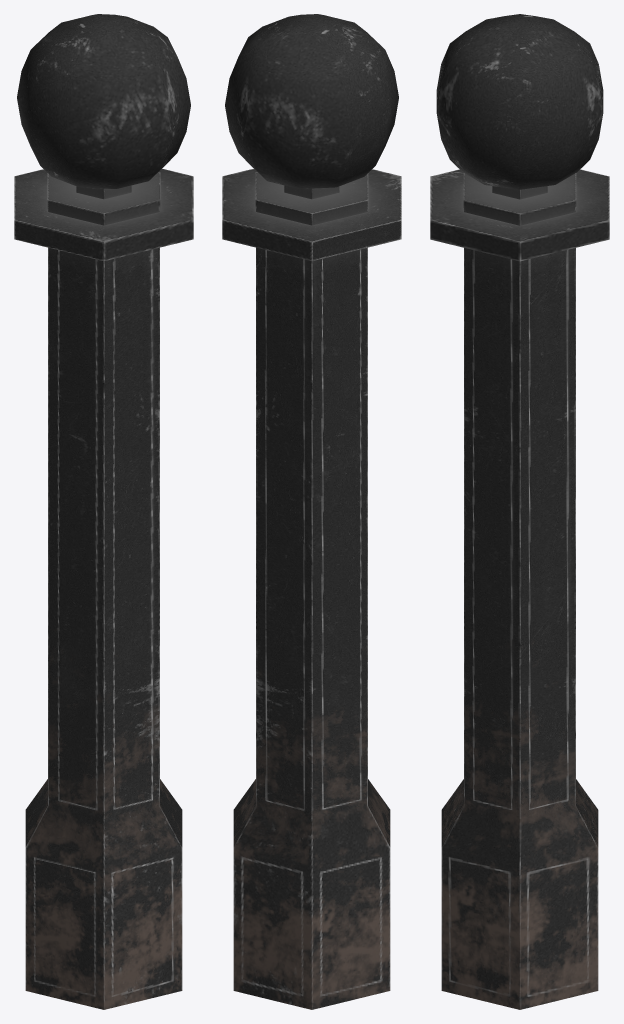
Rendered from SM_StreetPillar_Black.fbx.
3 views of the same model, side by side, from view 1: azimuth 30°, elevation 25°; view 2: azimuth 150°, elevation 25°; view 3: azimuth 270°, elevation 25° (orthographic).
Parts seen in each view (by area): view 1: SM_StreetPillar_Black; view 2: SM_StreetPillar_Black; view 3: SM_StreetPillar_Black.
Part boxes in pixels (x1,y1,x2,y2): SM_StreetPillar_Black: [14, 14, 193, 1009]; SM_StreetPillar_Black: [222, 14, 401, 1009]; SM_StreetPillar_Black: [430, 14, 609, 1009].
Size of the model in its own units: 12.99 by 11.25 by 65.71.
1 material, 1 textured.
